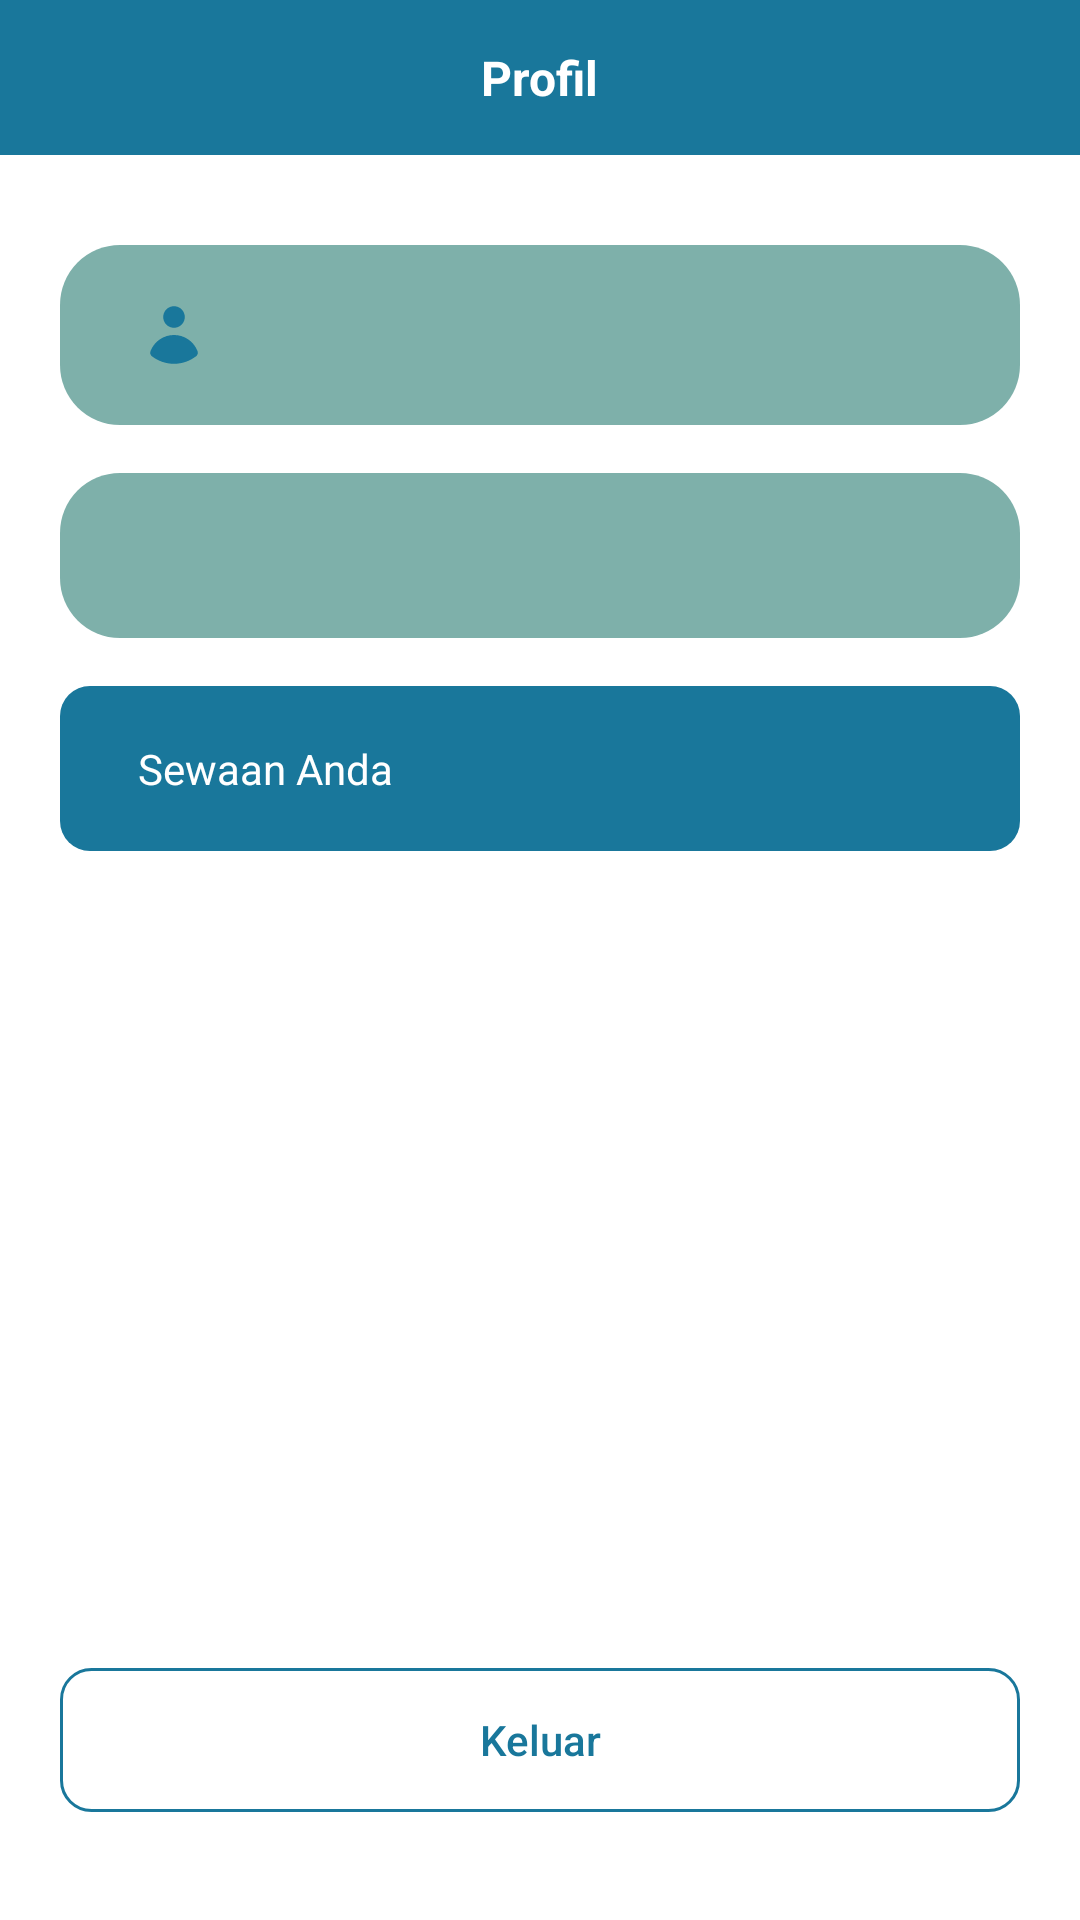

Where icons sit on this 1080px×1920px app screen, as (x1, y1, x2, y2):
user: (150, 306, 198, 364)
